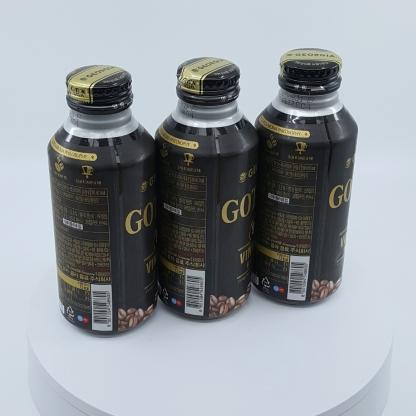-----------390ML: (47, 65, 158, 334), (249, 48, 358, 304), (154, 57, 260, 319)
